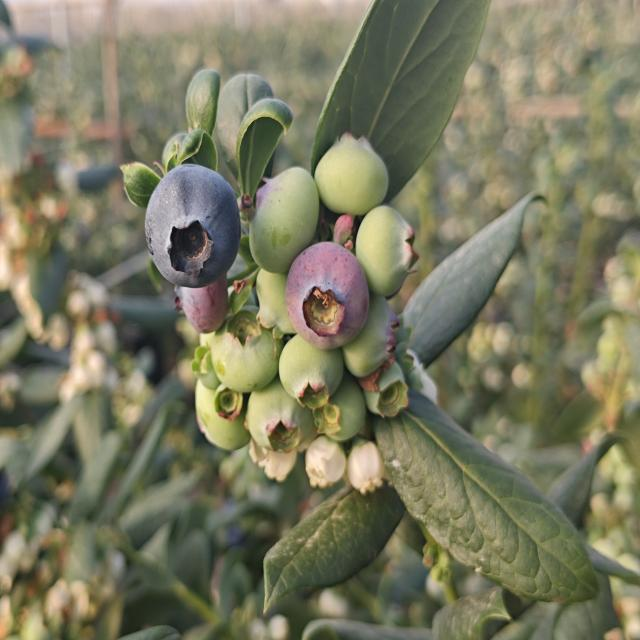ripe: (142, 161, 243, 291)
